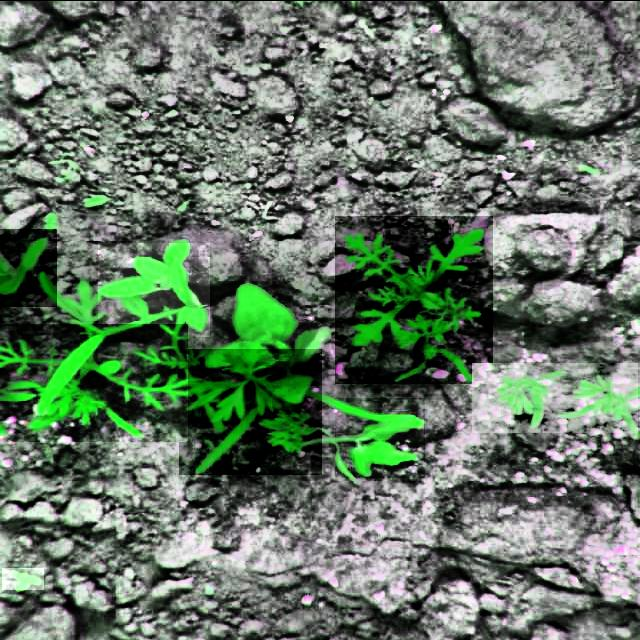Weeds: (202, 280, 318, 410), (98, 242, 210, 336), (335, 397, 425, 477), (0, 228, 57, 306)
undefined: (335, 215, 493, 383), (0, 323, 188, 441), (179, 348, 322, 474), (472, 362, 638, 432), (2, 567, 44, 589)
